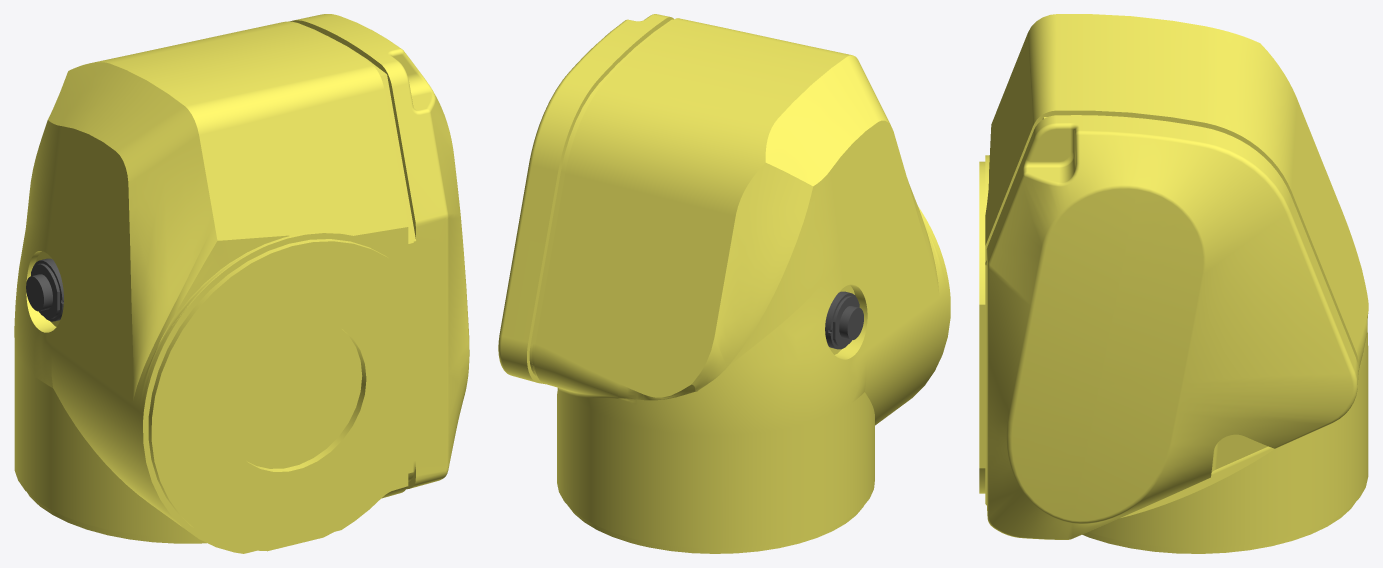
3 views of the same model, side by side, from view 1: azimuth 30°, elevation 25°; view 2: azimuth 150°, elevation 25°; view 3: azimuth 270°, elevation 25° (orthographic). The views are drawn at different scales.
Visible parts, largest first — view 1: J3-ORI.SLDPRT; view 2: J3-ORI.SLDPRT; view 3: J3-ORI.SLDPRT.
Part boxes in pixels (x1=…): J3-ORI.SLDPRT: x1=14, y1=14, x2=469, y2=553; J3-ORI.SLDPRT: x1=498, y1=14, x2=950, y2=553; J3-ORI.SLDPRT: x1=979, y1=14, x2=1368, y2=553.
Size of the model in its own units: 0.1264 by 0.1531 by 0.1243.
